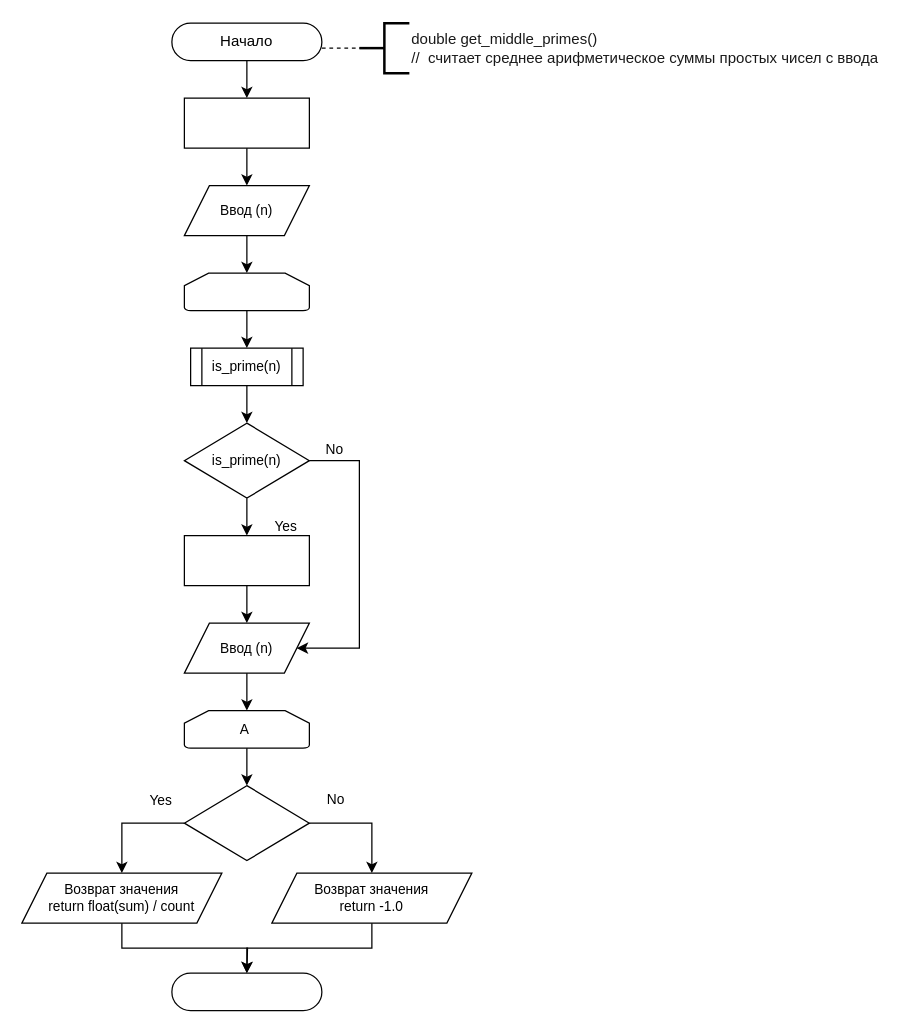
Some shapes in this 901 by 1033 pixel diagram are drawn without their labels. The shapes that lost their labels are listed below. From the top down, each one's box as (x1, y1, x2, y2) in pixels, then its label:
(183, 97, 309, 148): sum := 0 count := 0 n := 0
(183, 272, 309, 311): A пока n > 0
(183, 534, 309, 586): sum := sum + n count := count + 1
(183, 784, 309, 861): count > 0
(171, 972, 322, 1011): Конец
